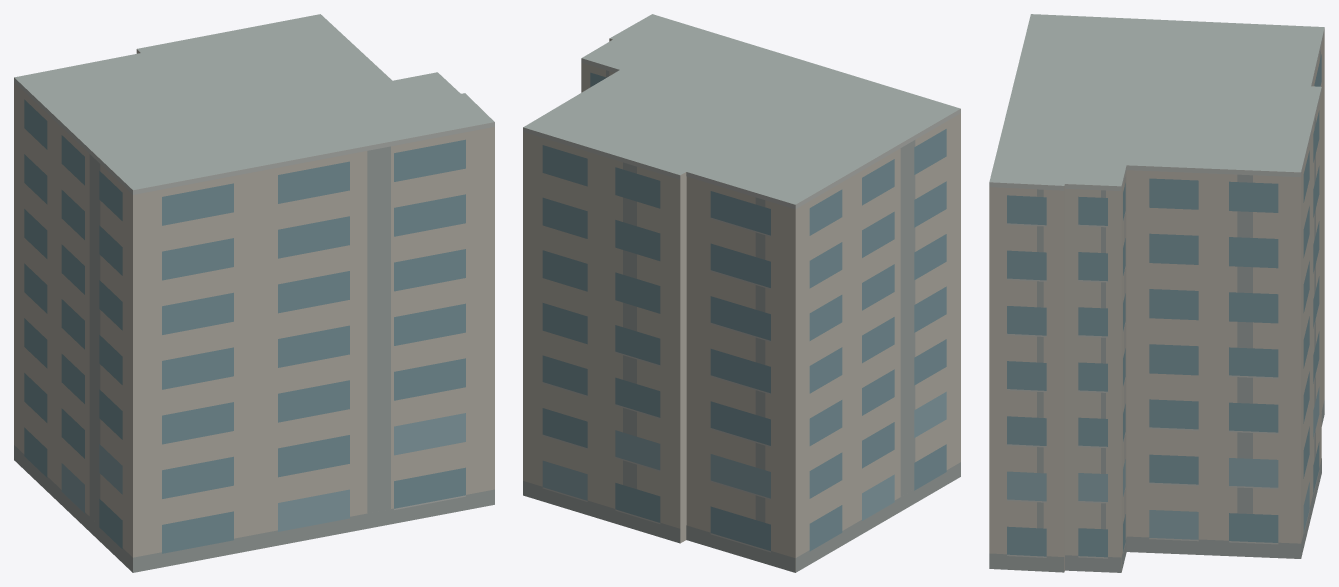
Rendered from survey-upis-32565917.glb.
3 renders of one model, left to right at view 1: azimuth 30°, elevation 25°; view 2: azimuth 150°, elevation 25°; view 3: azimuth 270°, elevation 25°, orthographic. The views are drawn at different scales.
Parts seen in each view (by area): view 1: survey-upis-32565917.tmp; view 2: survey-upis-32565917.tmp; view 3: survey-upis-32565917.tmp.
Boxes of the visible parts, x1,y1,x2,y2 form: survey-upis-32565917.tmp: (14,14,494,572); survey-upis-32565917.tmp: (523,14,960,572); survey-upis-32565917.tmp: (989,14,1324,572).
Bounding box in the file's own units: 18.75 × 19.6 × 15.42.
